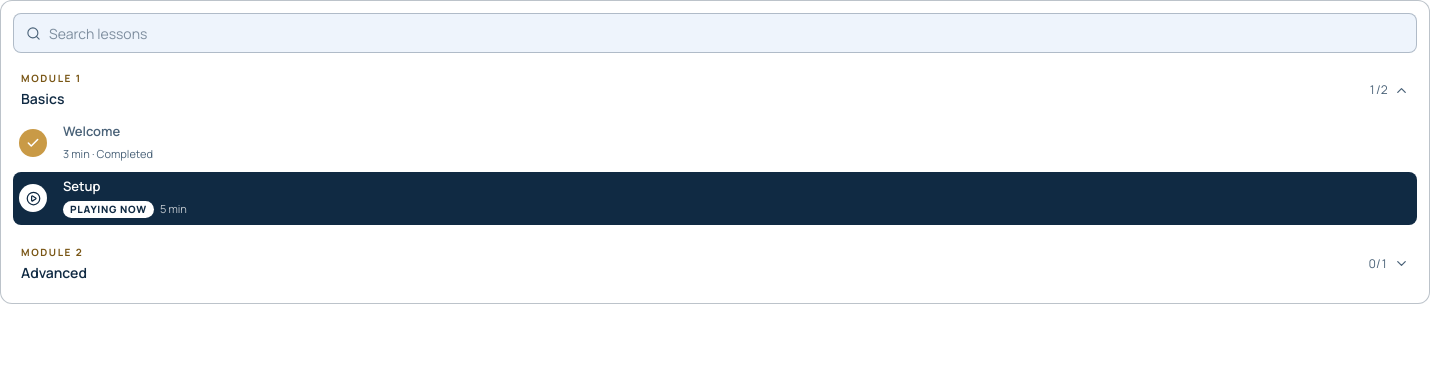
Test: CoursePlaylist › aula agendada mostra a data em que abre, nao so 'Locked'
Click the button "Module 2 Advanced 0/1".
click(52, 252)  # box [13,237,1417,291]
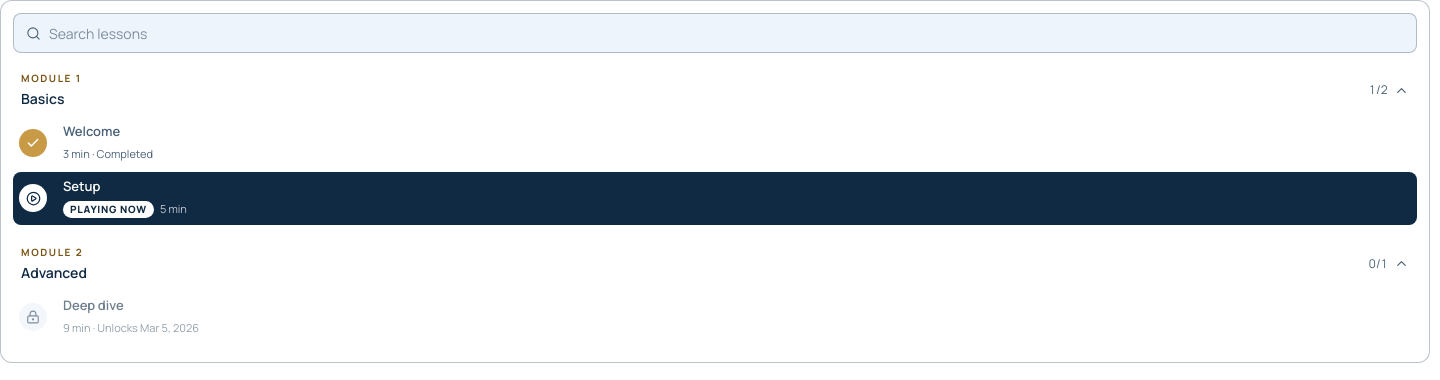
Now the button "Deep dive 9 min · Unlocks Mar 5, 2026" is shown, box [55,291,1409,344]
